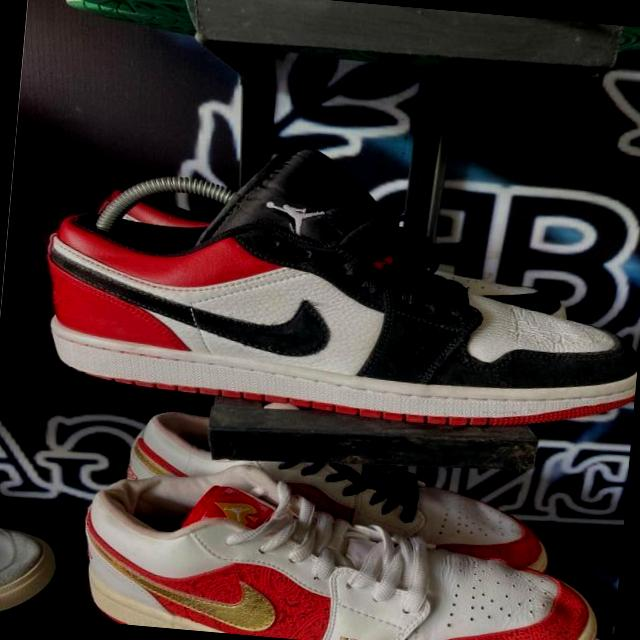nike_fake_jordan: (28, 118, 640, 445)
